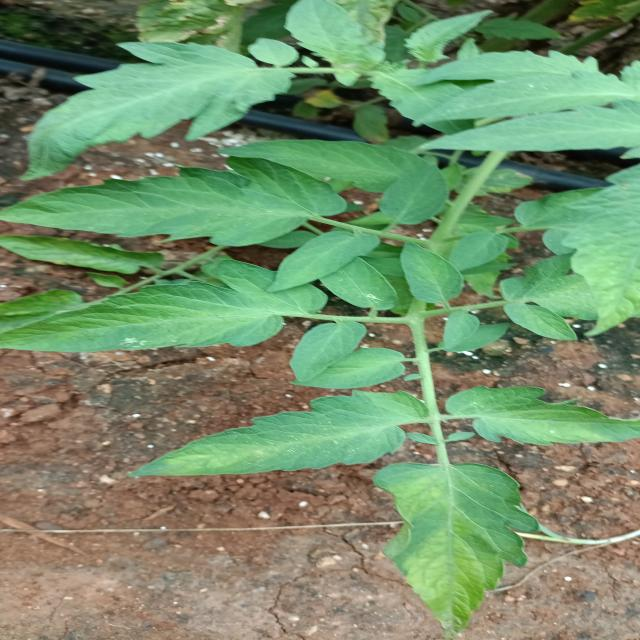Healthy Leaf: (371, 461, 576, 632), (116, 388, 445, 483), (1, 163, 337, 246), (6, 283, 308, 360), (440, 373, 640, 454)
